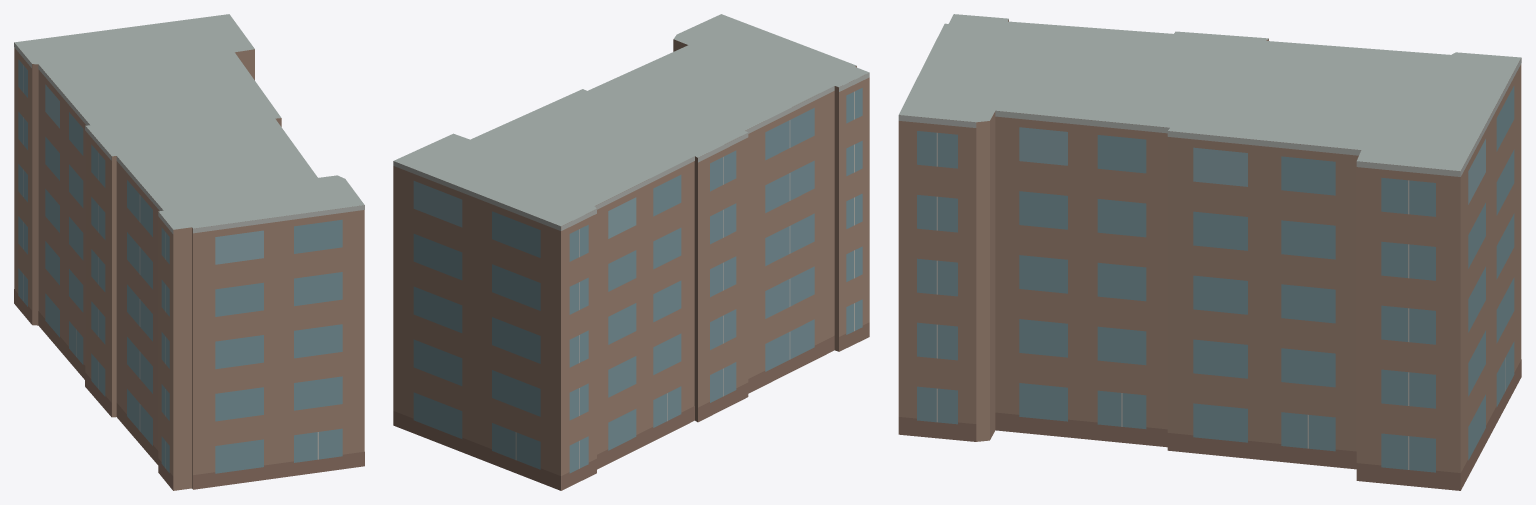
Rendered from survey-upis-32928287.glb.
The picture shows the model from 3 angles, left to right: view 1: azimuth 30°, elevation 25°; view 2: azimuth 150°, elevation 25°; view 3: azimuth 270°, elevation 25°; orthographic projection. The views are drawn at different scales.
Visible parts, largest first — view 1: survey-upis-32928287.tmp; view 2: survey-upis-32928287.tmp; view 3: survey-upis-32928287.tmp.
Boxes of the visible parts, x1=… form: survey-upis-32928287.tmp: x1=14, y1=14, x2=364, y2=490; survey-upis-32928287.tmp: x1=393, y1=14, x2=869, y2=490; survey-upis-32928287.tmp: x1=898, y1=14, x2=1521, y2=490.
Size of the model in its own units: 14.04 by 13.3 by 23.5.
